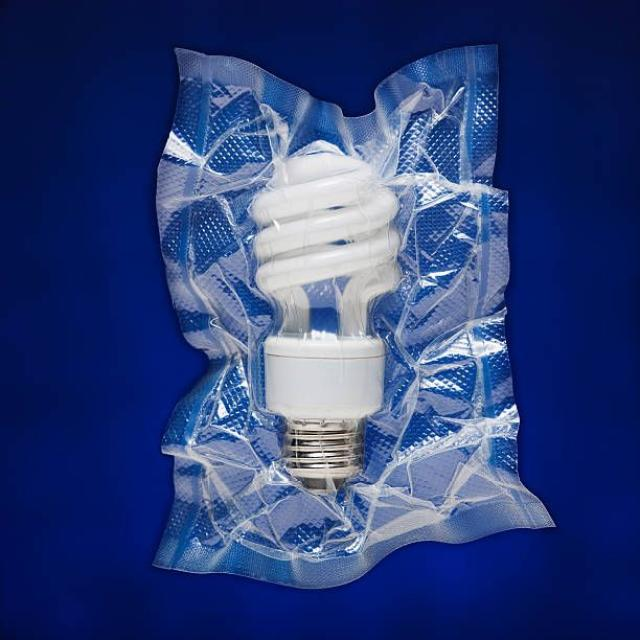electronic: (248, 148, 402, 488)
